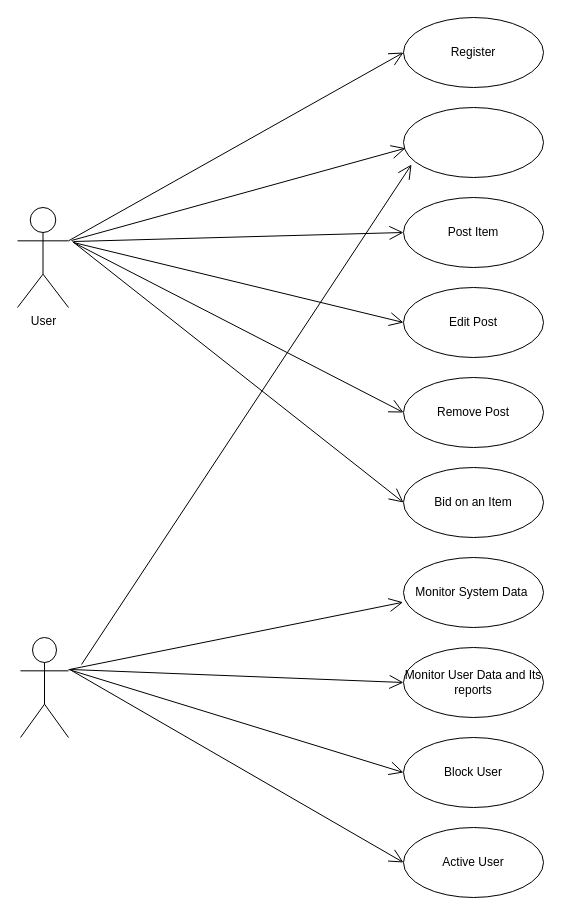
This 561x915 diagram has some shape labels left out. Each missing label, with the centre of its shape:
"Admin" belongs at point (44, 687).
"Login" belongs at point (473, 142).
